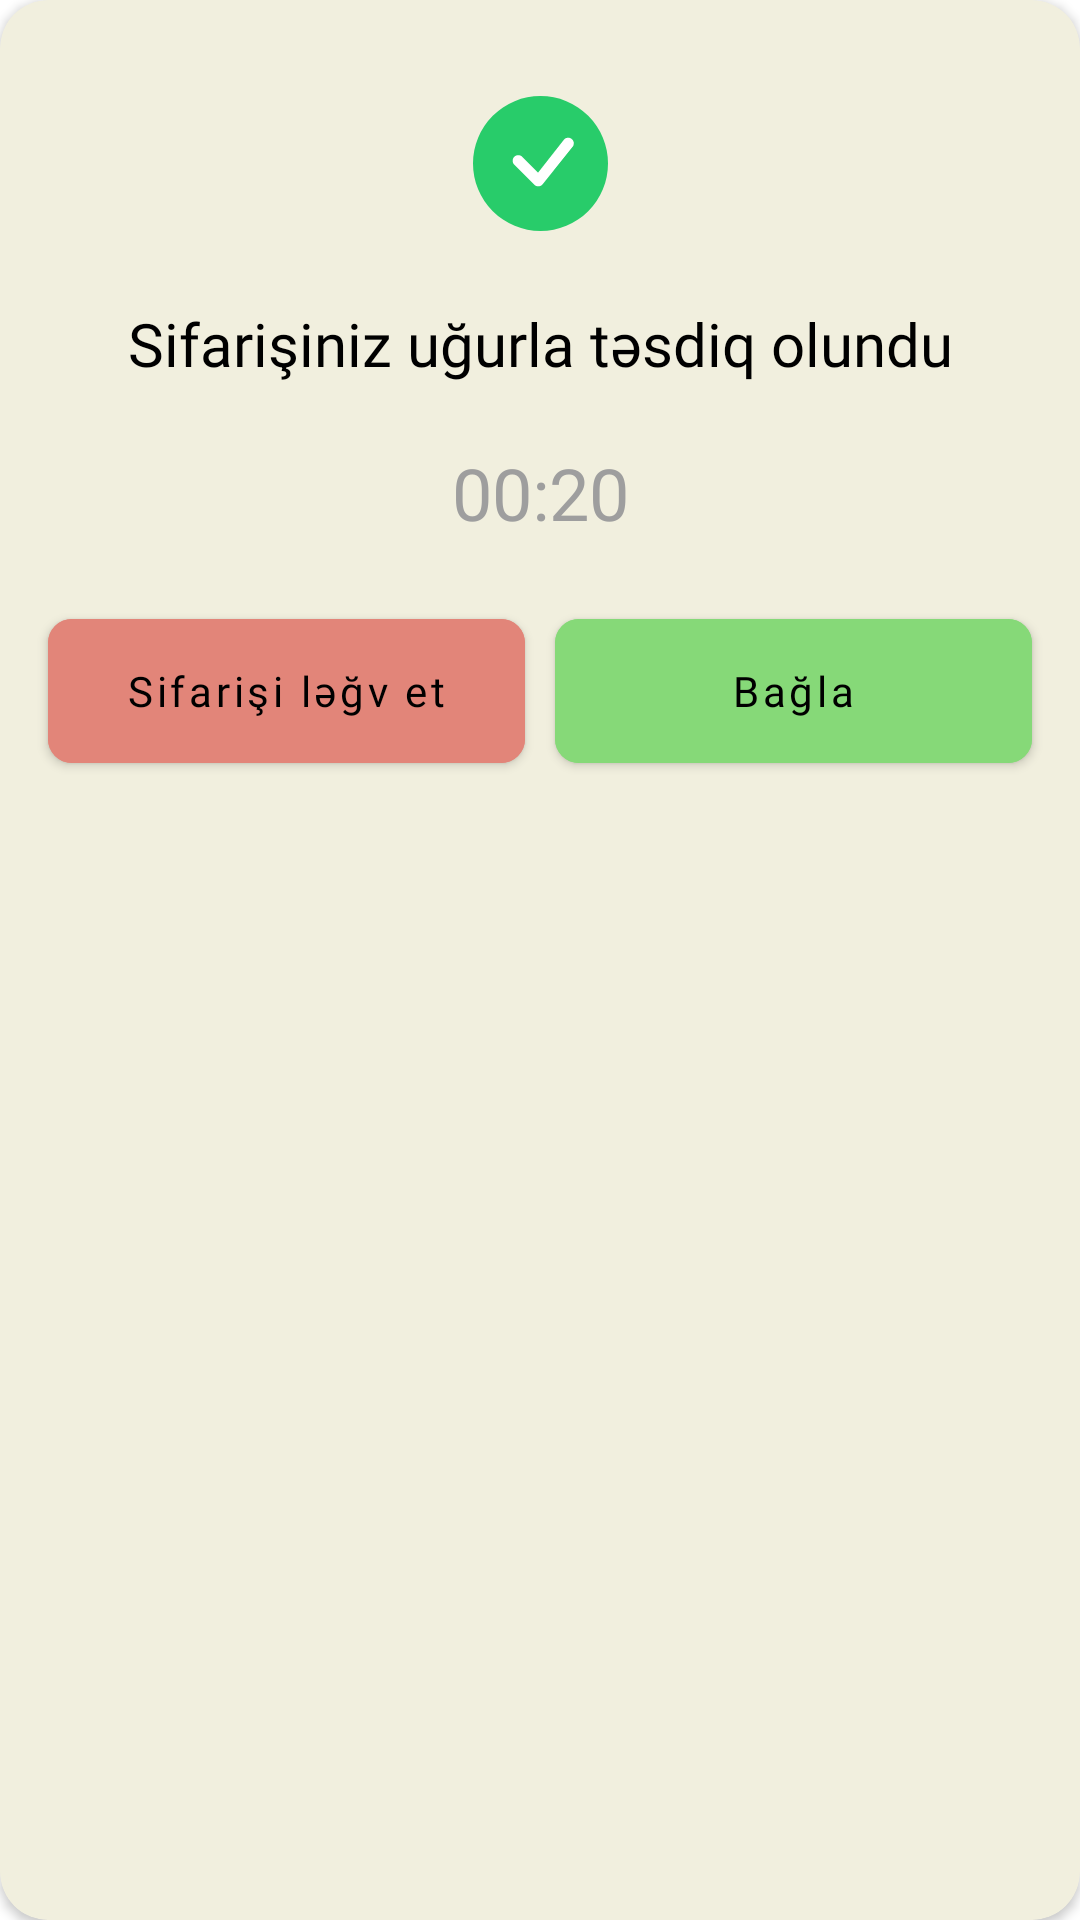

Screen size 1080 x 1920. Icon name, then its box in pixels as (x1, y1, x2, y2):
success check: (473, 96, 608, 231)
